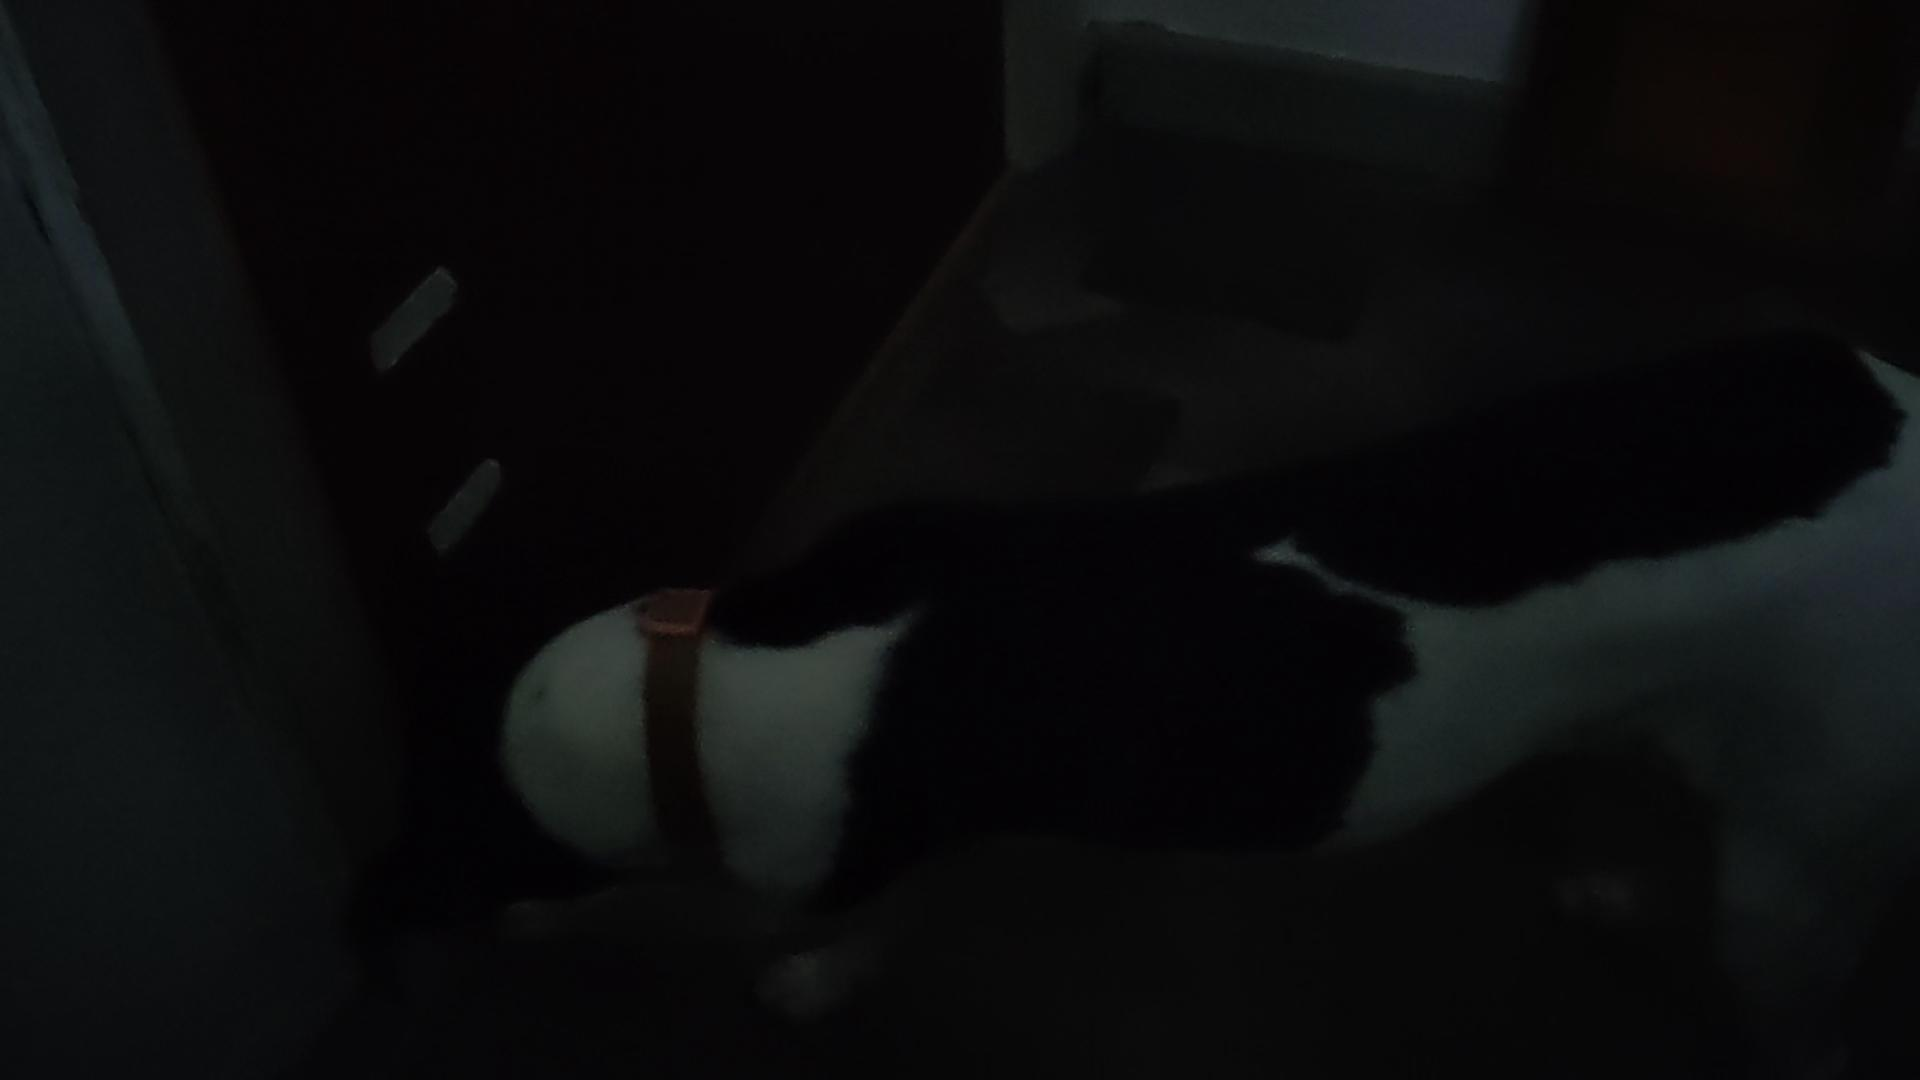Dog: (266, 286, 1919, 1079)
